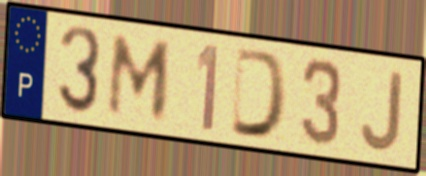1: (195, 42, 220, 134)
3: (299, 55, 346, 151), (56, 23, 102, 118)
D: (228, 44, 291, 143)
J: (358, 68, 406, 154)
M: (104, 31, 176, 123)
